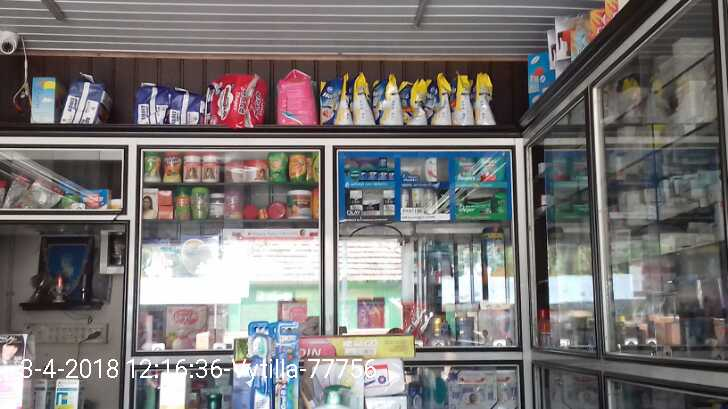vicks: (350, 156, 396, 181)
